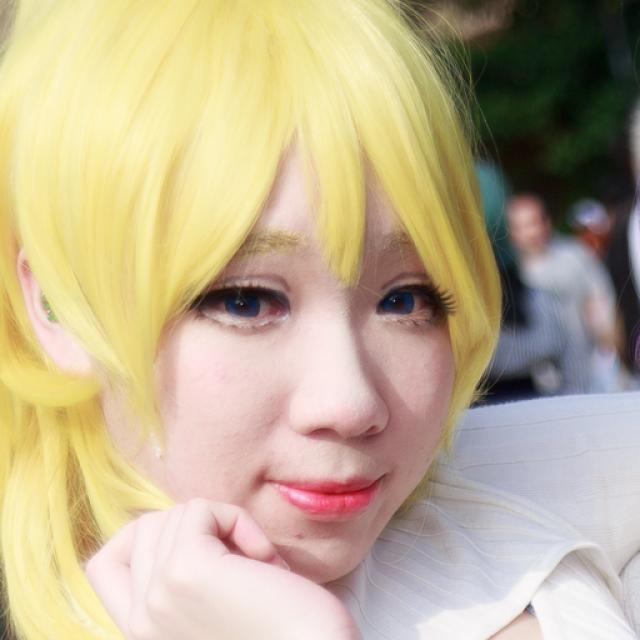sad: (512, 211, 542, 251)
